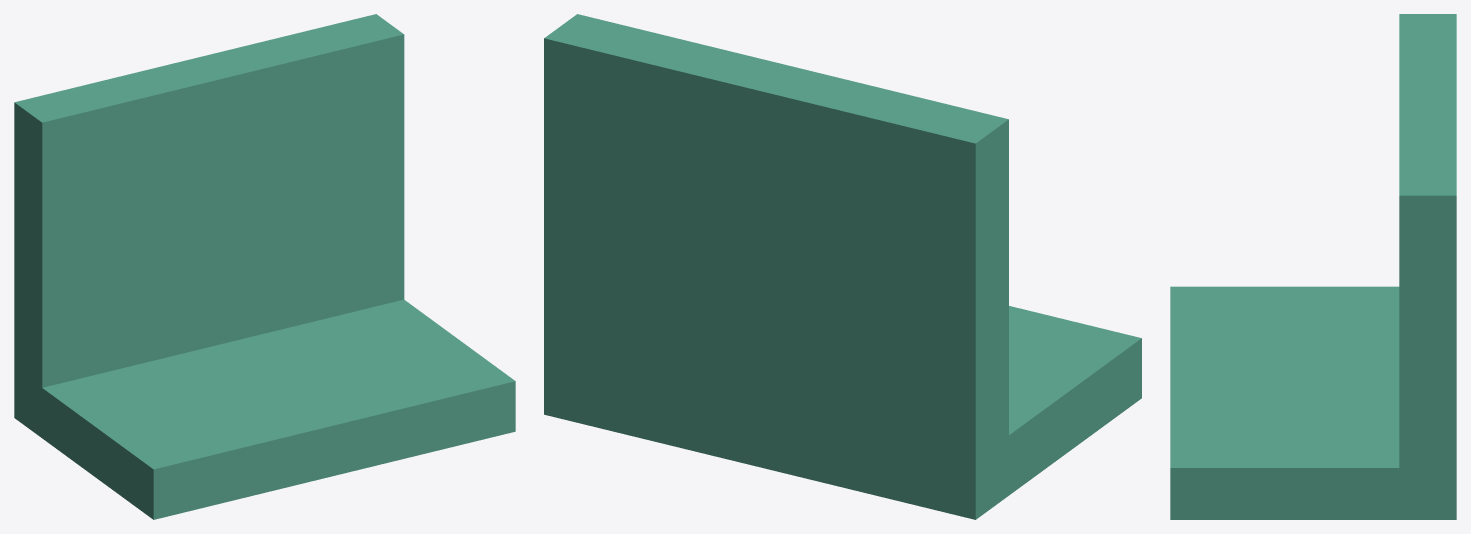
Rendered from bracket.glb.
The picture shows the model from 3 angles, left to right: view 1: azimuth 30°, elevation 25°; view 2: azimuth 150°, elevation 25°; view 3: azimuth 270°, elevation 25°; orthographic projection. The views are drawn at different scales.
Parts seen in each view (by area): view 1: geometry_0; view 2: geometry_0; view 3: geometry_0.
Boxes of the visible parts, left/top/right/bottom form: geometry_0: left=14, top=14, right=515, bottom=519; geometry_0: left=544, top=14, right=1141, bottom=519; geometry_0: left=1170, top=14, right=1456, bottom=519.
Bounding box in the file's own units: 60 × 50 × 40.
